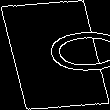O_W: (3, 30, 107, 80)
